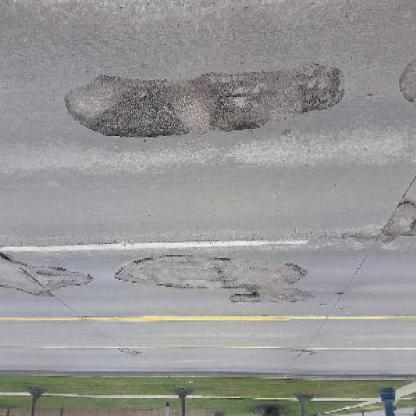pothole: (92, 90, 191, 140), (210, 79, 268, 138), (298, 67, 344, 119), (248, 288, 262, 303)
